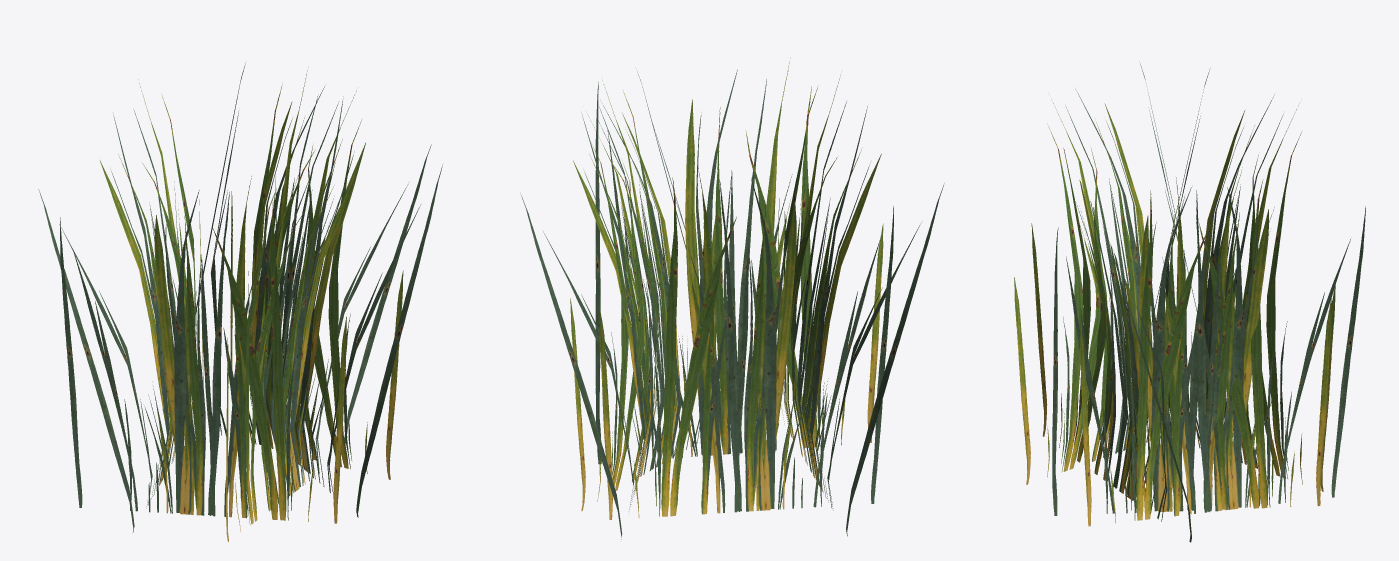
File: grass_small.glb
3 renders of one model, left to right at view 1: azimuth 30°, elevation 25°; view 2: azimuth 150°, elevation 25°; view 3: azimuth 270°, elevation 25°, orthographic. The views are drawn at different scales.
Parts seen in each view (by area): view 1: Object_6; view 2: Object_6; view 3: Object_6.
Boxes of the visible parts, x1,y1,x2,y2 form: Object_6: (38,63,442,541); Object_6: (520,57,944,539); Object_6: (1014,63,1365,542).
Size of the model in its own units: 0.2357 by 0.2222 by 0.201.
1 material, 1 textured.
